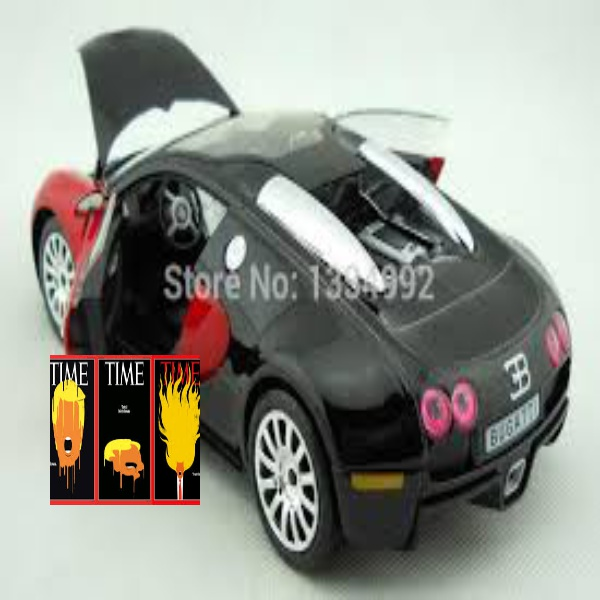time_cover: (103, 352, 152, 504), (45, 353, 93, 506), (163, 349, 204, 509)
